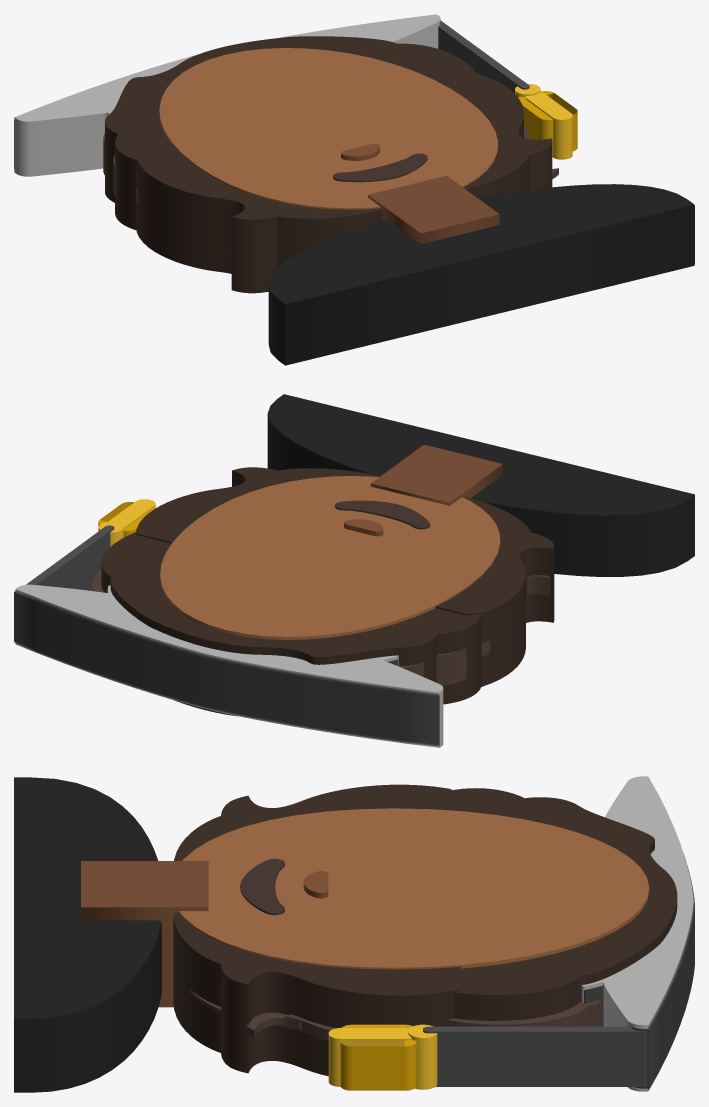
File: emoji_u1f9d1_1f3fe_200d_1f393.glb
3 views of the same model, one above another, from view 1: azimuth 30°, elevation 25°; view 2: azimuth 150°, elevation 25°; view 3: azimuth 270°, elevation 25° (orthographic). The views are drawn at different scales.
Visible parts, largest first — view 1: emoji_u1f9d1_1f3fe_200d_1f393; view 2: emoji_u1f9d1_1f3fe_200d_1f393; view 3: emoji_u1f9d1_1f3fe_200d_1f393.
Part boxes in pixels (x1,y1,x2,y2): emoji_u1f9d1_1f3fe_200d_1f393: (14, 14, 694, 365); emoji_u1f9d1_1f3fe_200d_1f393: (14, 394, 694, 747); emoji_u1f9d1_1f3fe_200d_1f393: (14, 776, 694, 1092).
Bounding box in the file's own units: 0.03 × 0.0056 × 0.0334.
